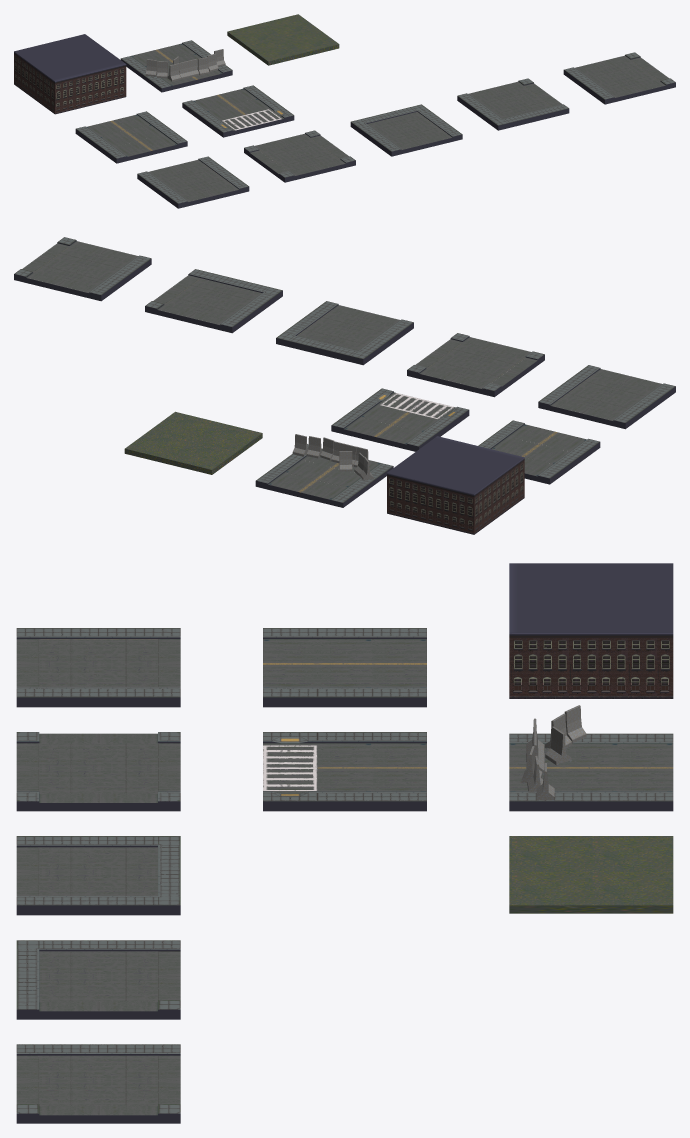
The model's file is roadlego-tiles2.glb.
3 renders of one model, top to bottom at view 1: azimuth 30°, elevation 25°; view 2: azimuth 150°, elevation 25°; view 3: azimuth 270°, elevation 25°, orthographic. The views are drawn at different scales.
Visible parts, largest first — view 1: dummy building, road blocked, road deadend, road straight crossing, road straight, road straight lines, road corner, road t-junction, road crossroads, grass; view 2: dummy building, road blocked, road corner, road deadend, road straight, road t-junction, road crossroads, road straight crossing, grass, road straight lines; view 3: dummy building, road blocked, road t-junction, road corner, road deadend, road straight, road straight crossing, road straight lines, road crossroads, grass.
Part boxes in pixels (x1,y1,x2,y2): dummy building: (14, 34, 126, 114); road blocked: (120, 40, 232, 92); road deadend: (350, 104, 462, 156); road straight crossing: (182, 85, 294, 137); road straight: (137, 156, 249, 208); road straight lines: (75, 111, 187, 163); road corner: (457, 78, 569, 130); road t-junction: (563, 52, 675, 104); road crossroads: (244, 130, 355, 182); grass: (227, 14, 339, 65); dummy building: (387, 436, 524, 534); road blocked: (255, 434, 393, 507); road corner: (145, 269, 282, 333); road deadend: (276, 301, 413, 365); road straight: (538, 365, 675, 429); road t-junction: (14, 237, 151, 301); road crossroads: (407, 333, 544, 397); road straight crossing: (331, 388, 469, 451); grass: (124, 411, 262, 474); road straight lines: (478, 420, 600, 484); dummy building: (509, 563, 673, 698); road blocked: (509, 705, 673, 811); road t-junction: (16, 1044, 180, 1123); road corner: (16, 940, 180, 1019); road deadend: (16, 836, 180, 915); road straight: (16, 628, 180, 707); road straight crossing: (263, 732, 426, 811); road straight lines: (263, 628, 426, 707); road crossroads: (16, 732, 180, 811); grass: (509, 836, 673, 913).
Size of the model in its own units: 126 by 9 by 72.
5 materials, 5 textured.
